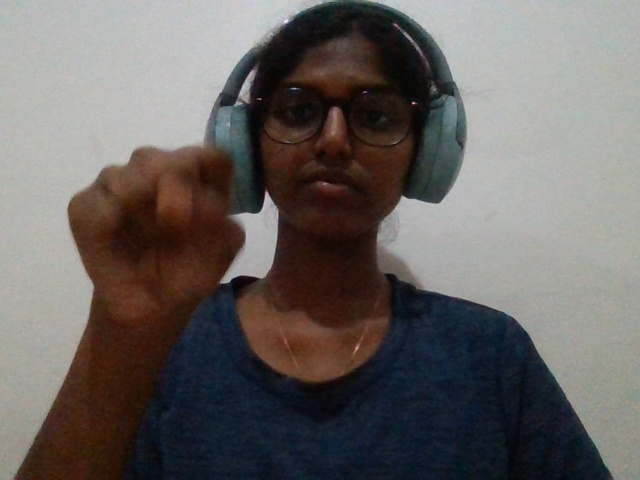Yes: (52, 142, 265, 358)
